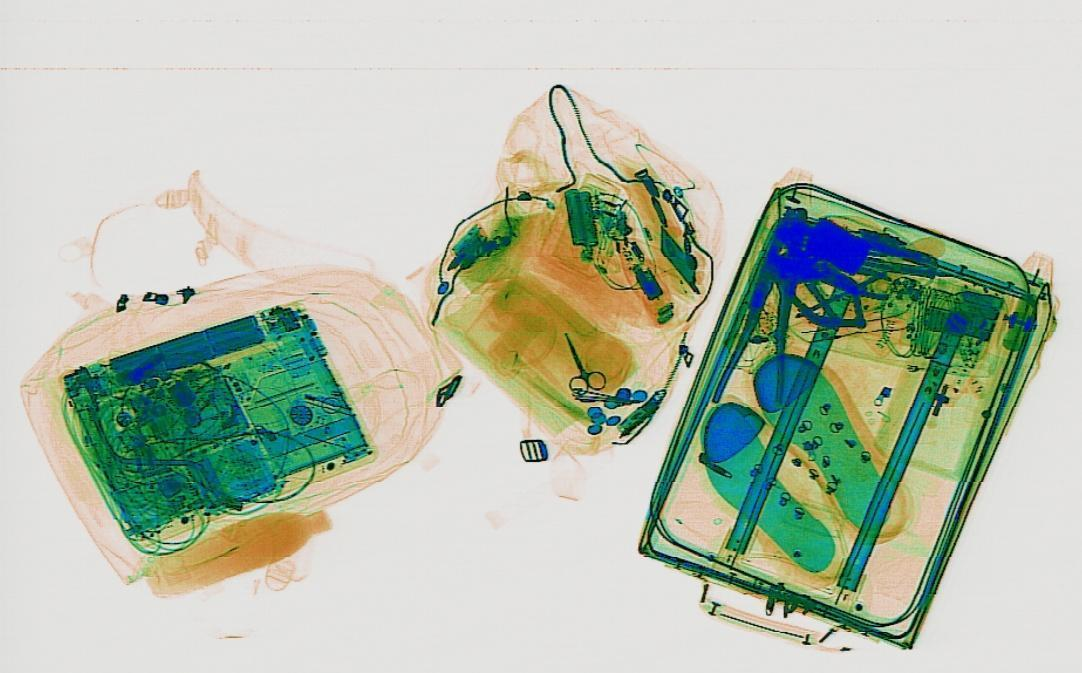Scissors: (548, 328, 607, 394)
